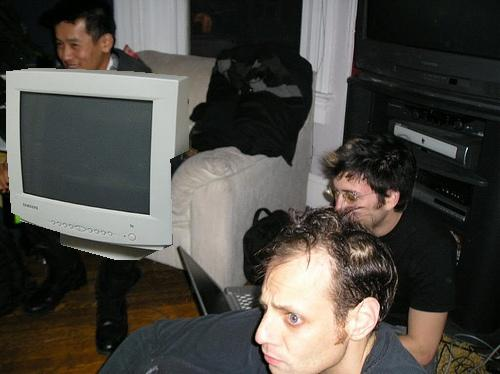tampered: (7, 69, 189, 260)
